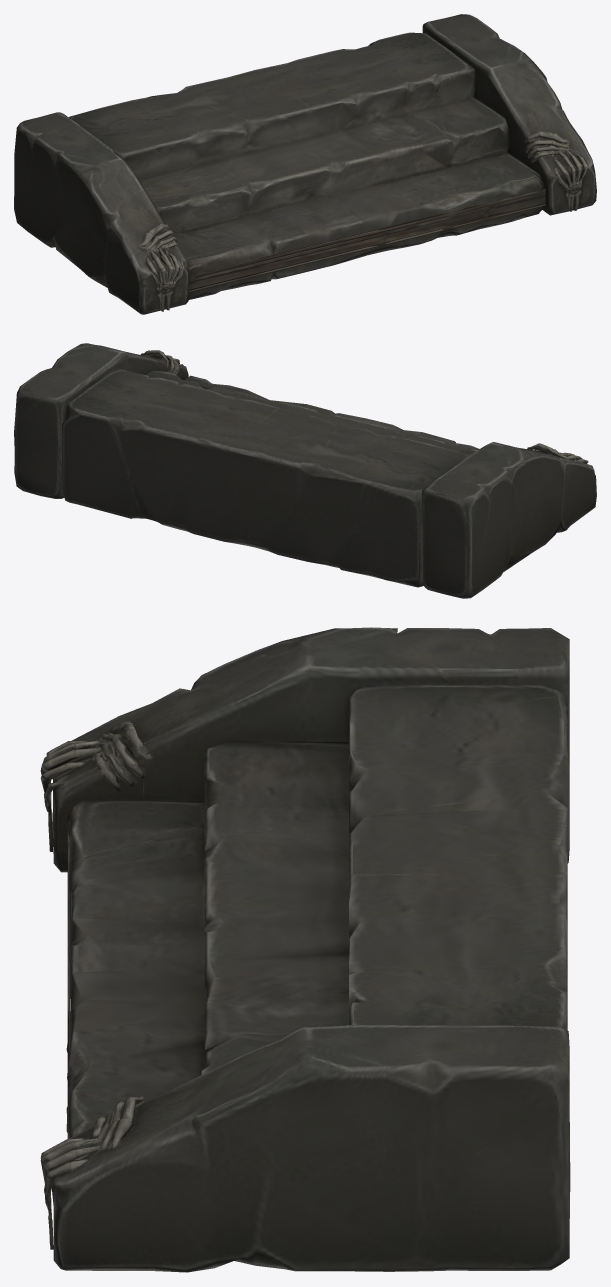
Rendered from gate-threshold-612dc4931ab2.glb.
The picture shows the model from 3 angles, top to bottom: view 1: azimuth 30°, elevation 25°; view 2: azimuth 150°, elevation 25°; view 3: azimuth 270°, elevation 25°; orthographic projection. The views are drawn at different scales.
Bounding box in the file's own units: 0.9575 × 0.2041 × 0.48.
1 material, 1 textured.
